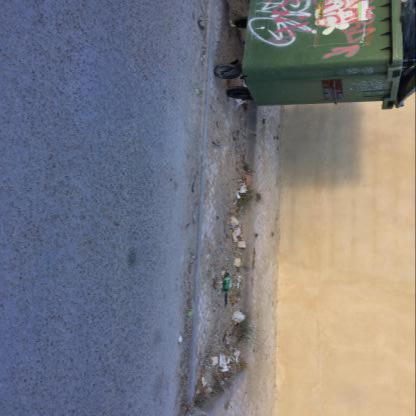Bottle cap: (223, 274, 230, 292)
Broken glass: (218, 216, 219, 220)
Cigarette: (233, 98, 245, 105), (189, 310, 193, 316), (192, 256, 195, 260), (216, 332, 218, 336), (204, 54, 206, 58)
Other plastic: (230, 22, 237, 28), (198, 88, 200, 94), (218, 260, 220, 262)
Paper: (240, 185, 248, 193), (233, 303, 238, 307)
Plastic bag - wrapper: (400, 0, 415, 61)
Plastic container: (219, 352, 226, 367)
Unlabeled litter: (234, 348, 241, 362), (202, 378, 206, 388), (236, 192, 240, 200), (178, 335, 182, 343), (237, 282, 240, 288), (182, 381, 186, 385), (232, 202, 236, 206), (221, 382, 224, 386)
